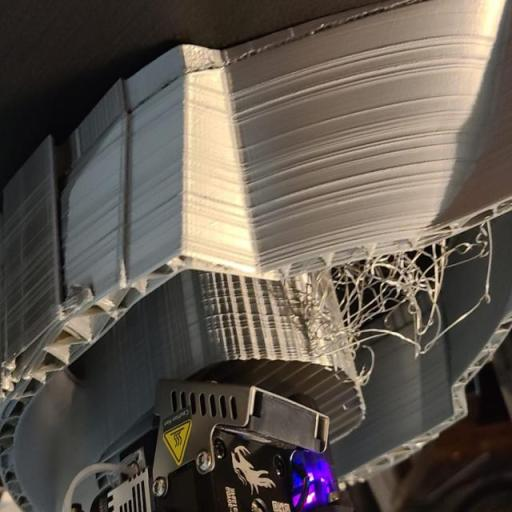spaghetti: (262, 213, 502, 371), (52, 274, 95, 330)
